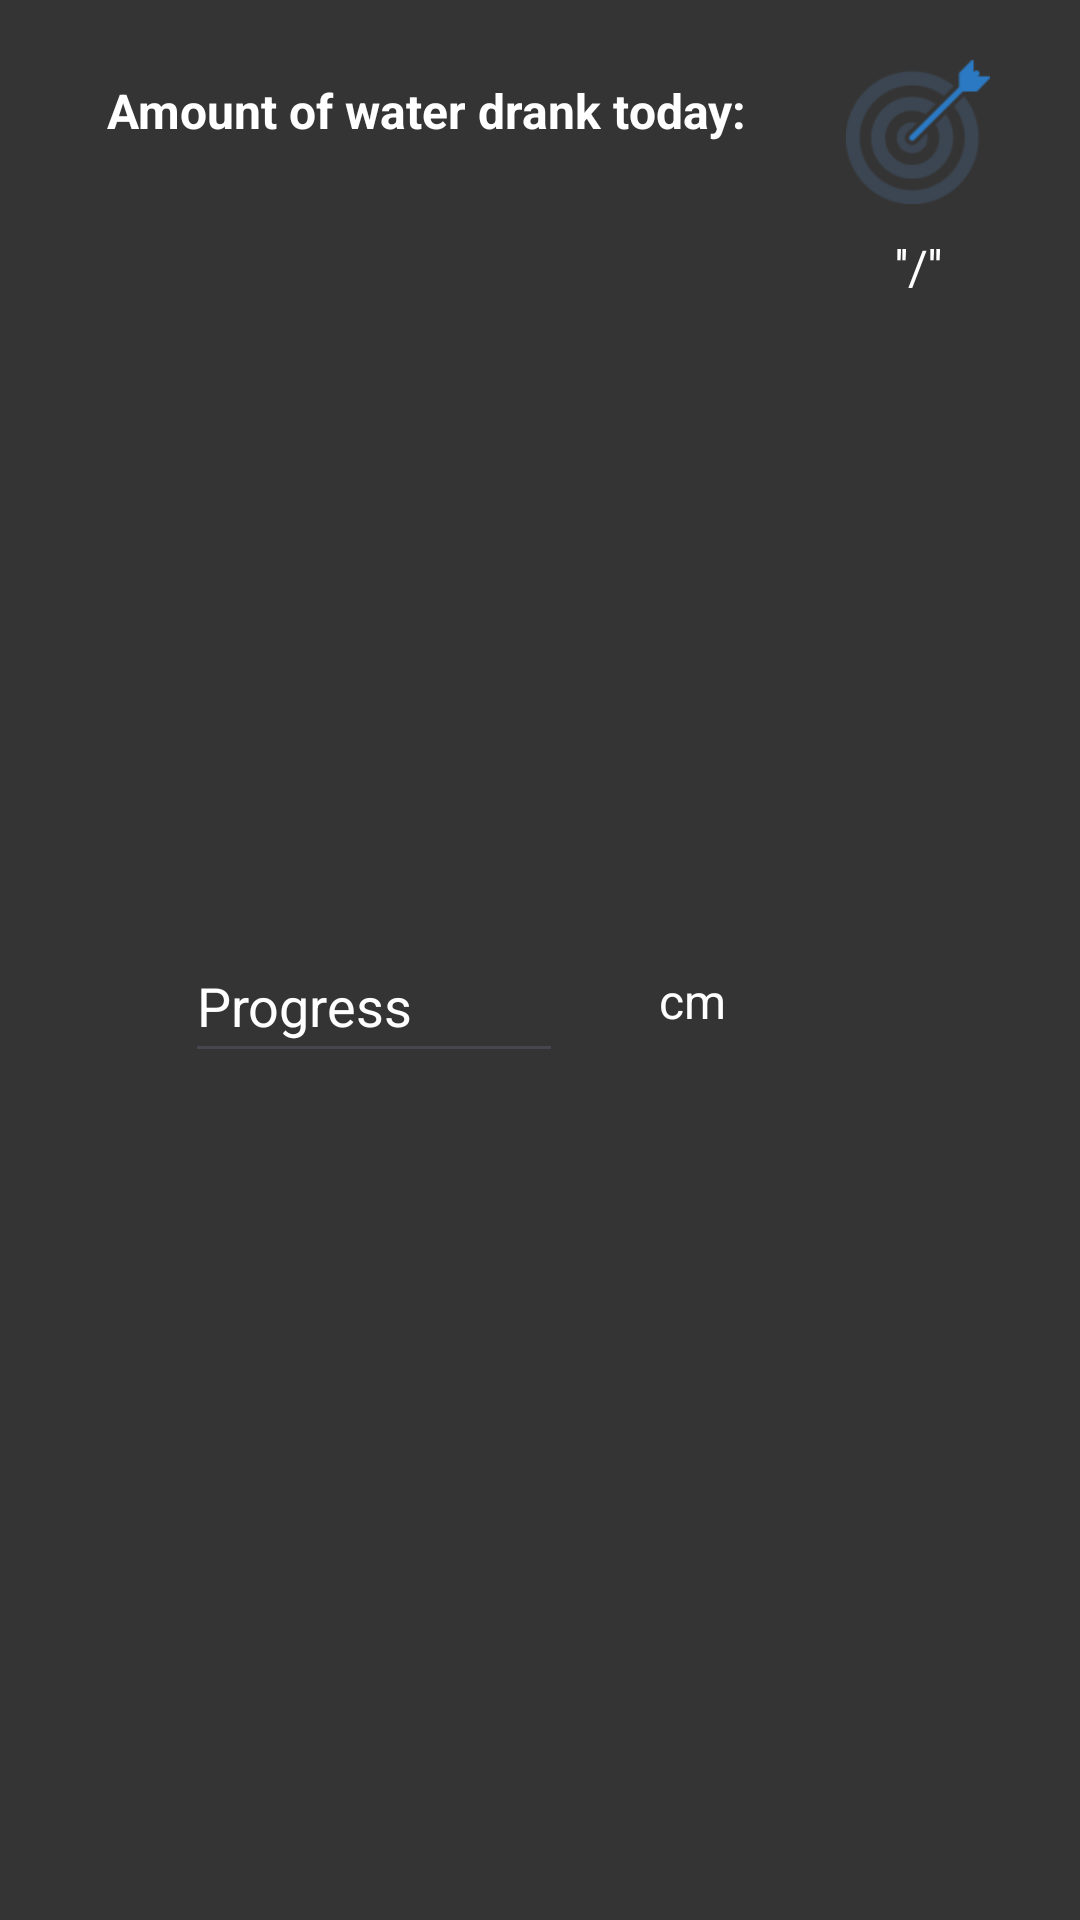

Icons on this 1080×1920 Android screen, each with its box as region(x1, y1, x2, y2):
goal symbol: region(846, 60, 990, 204)
